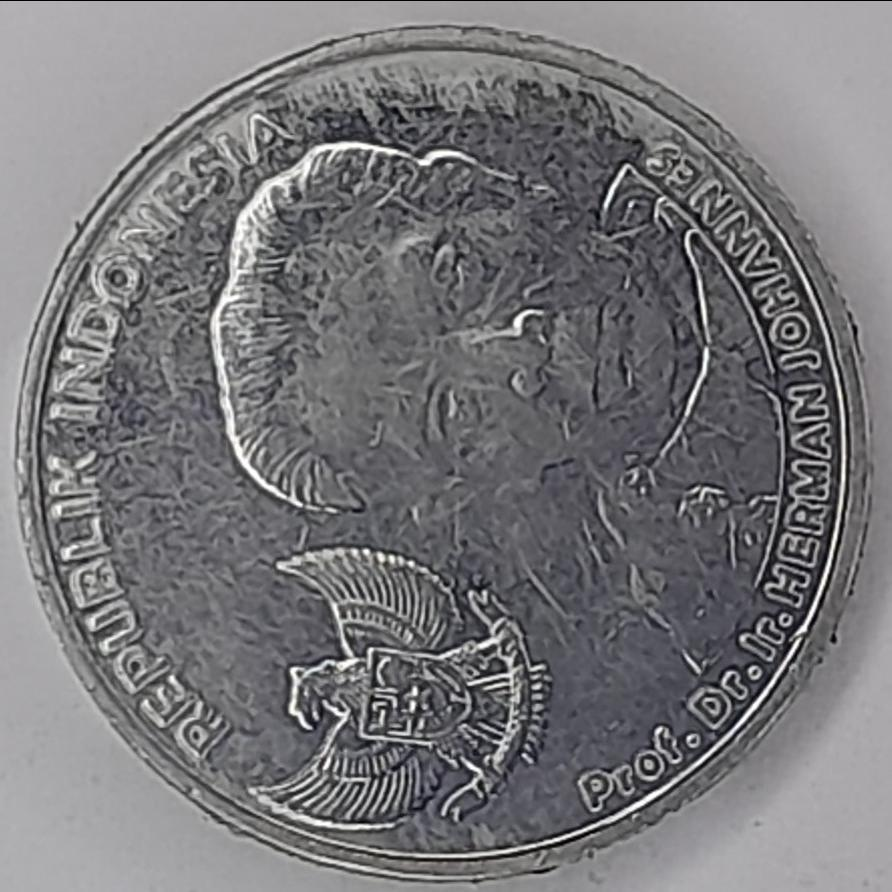coin_100_e2016: (9, 18, 877, 885)
